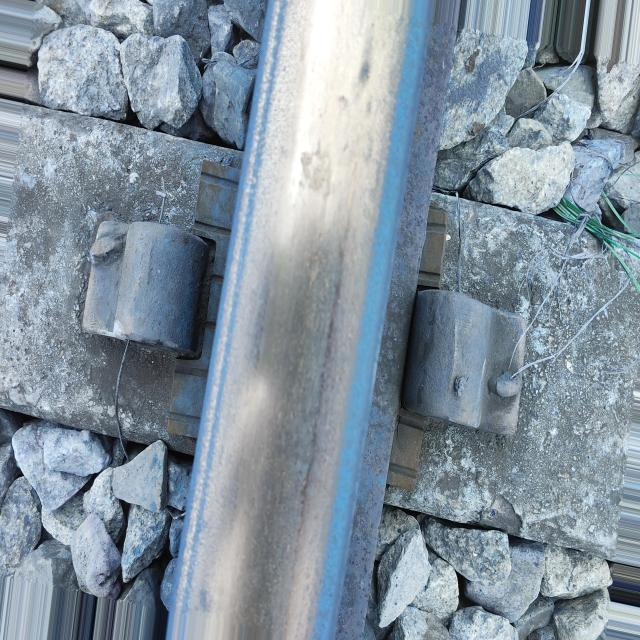Missing Fastener: (386, 258, 573, 460), (60, 187, 219, 379)
